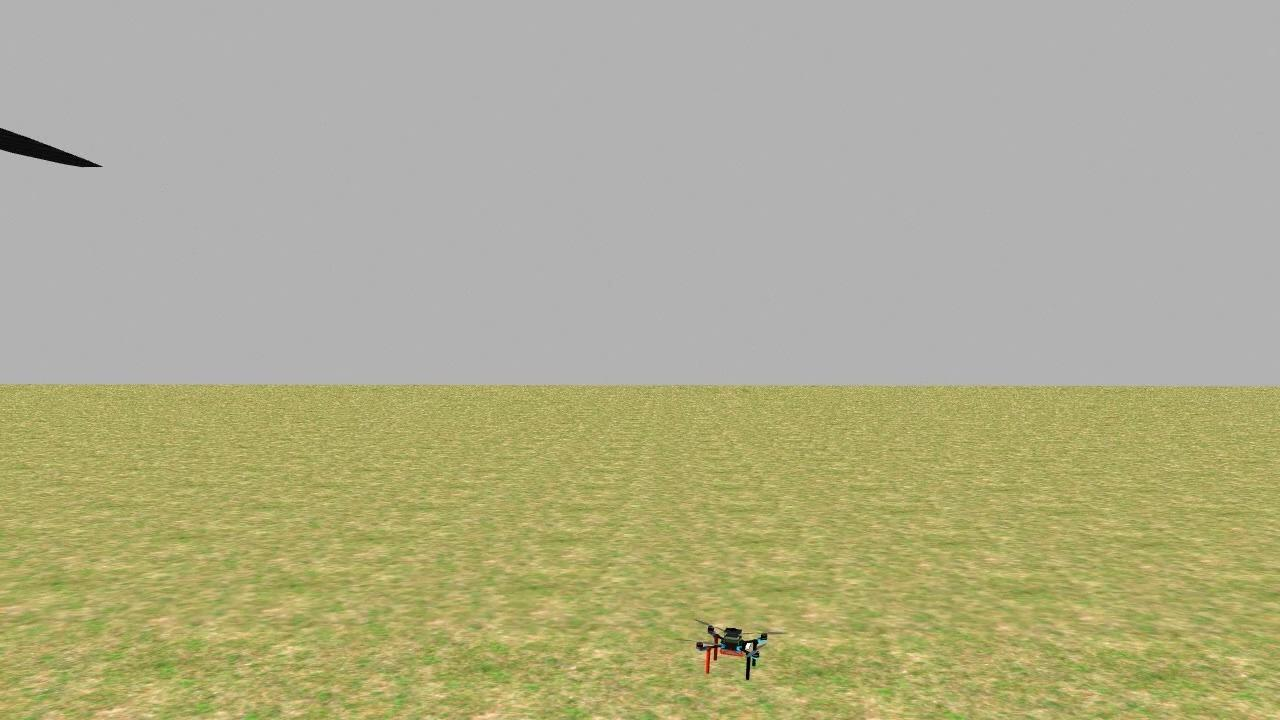UAV: (689, 618, 780, 686)
